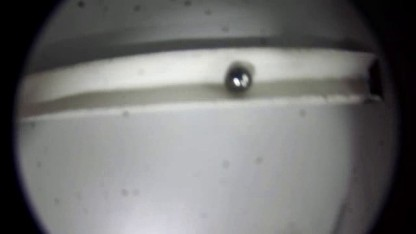gangzhu: (224, 67, 254, 96)
